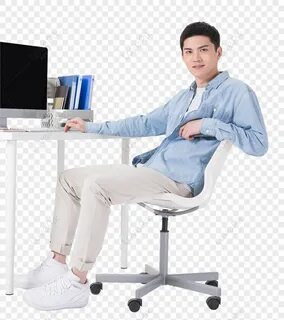awake: (13, 20, 270, 309)
